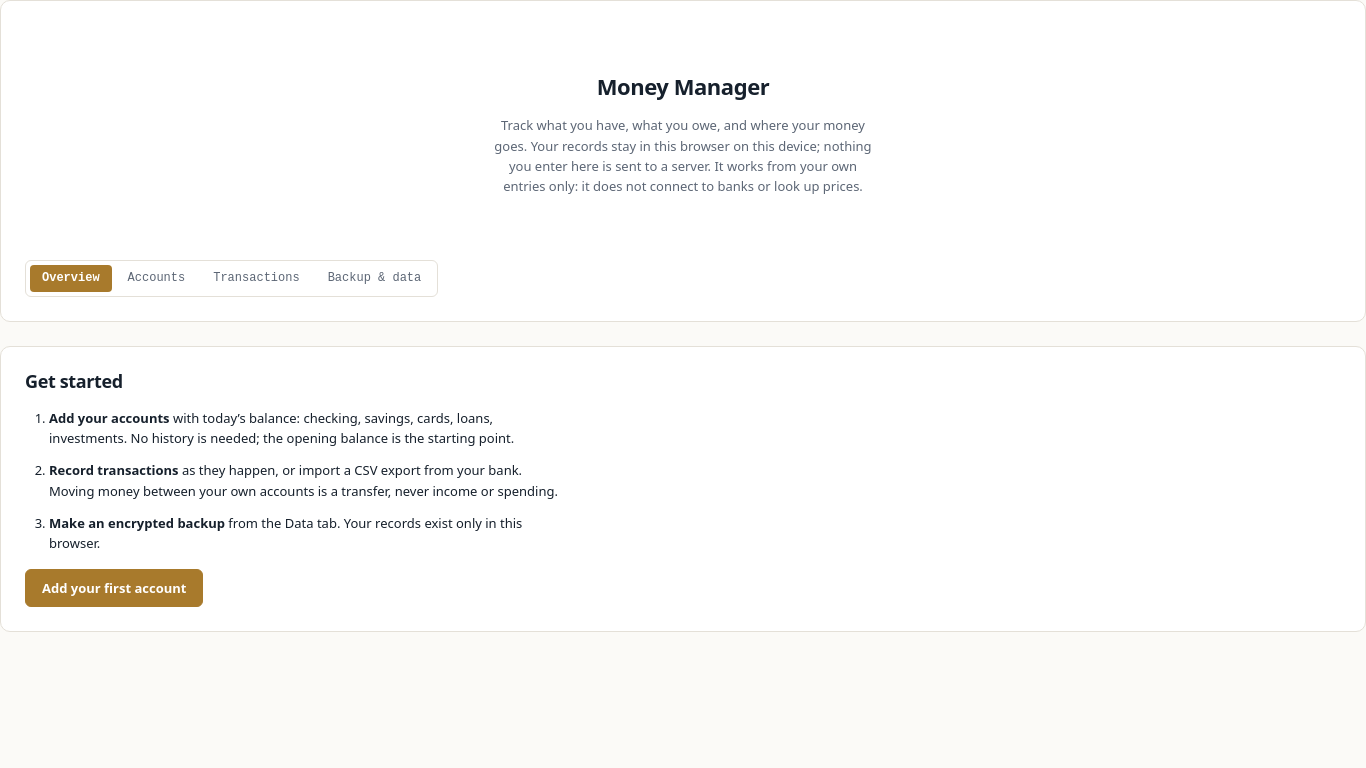
Test: Money Manager › refuses invalid input with specific messages
The image size is (1366, 768).
Click the button "Accounts" at (156, 278), box [116, 265, 197, 292]
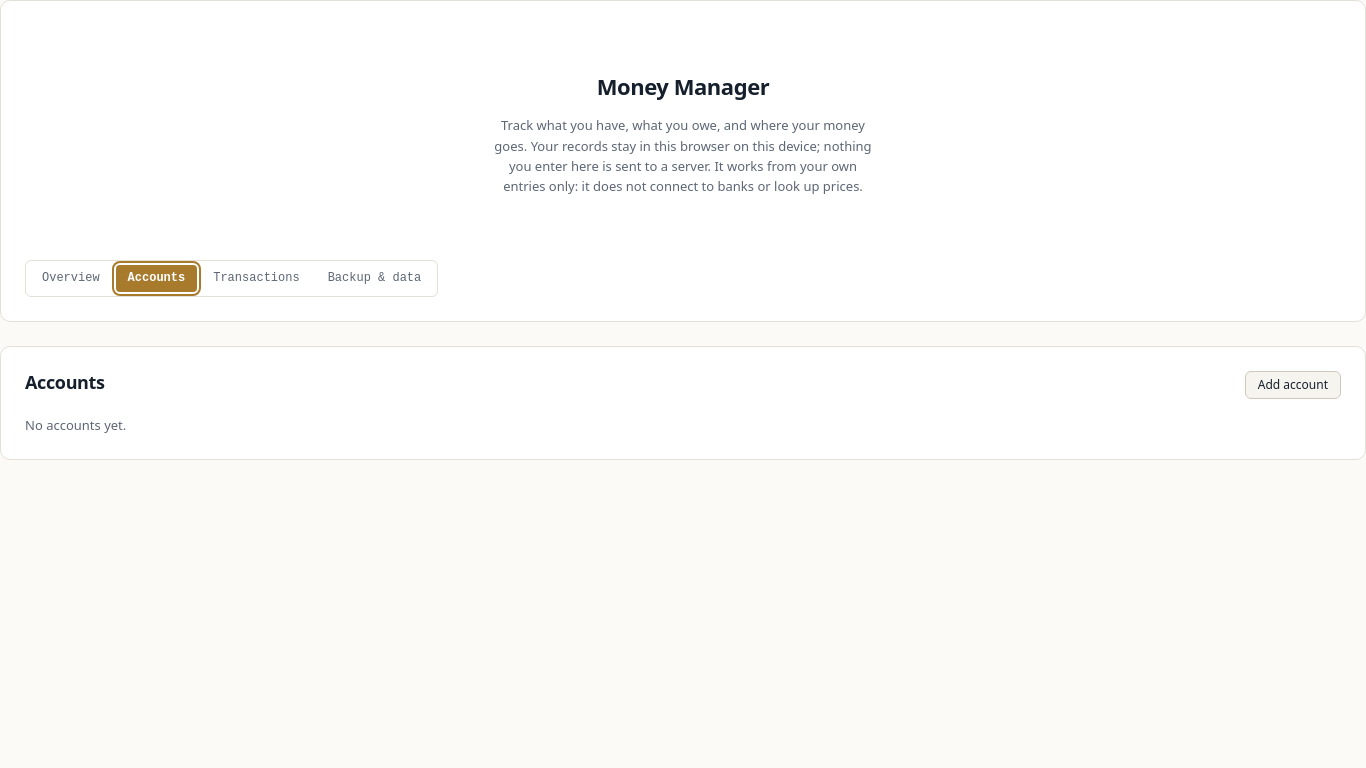
Click the button "Add account" at (1293, 385), box [1245, 370, 1341, 399]
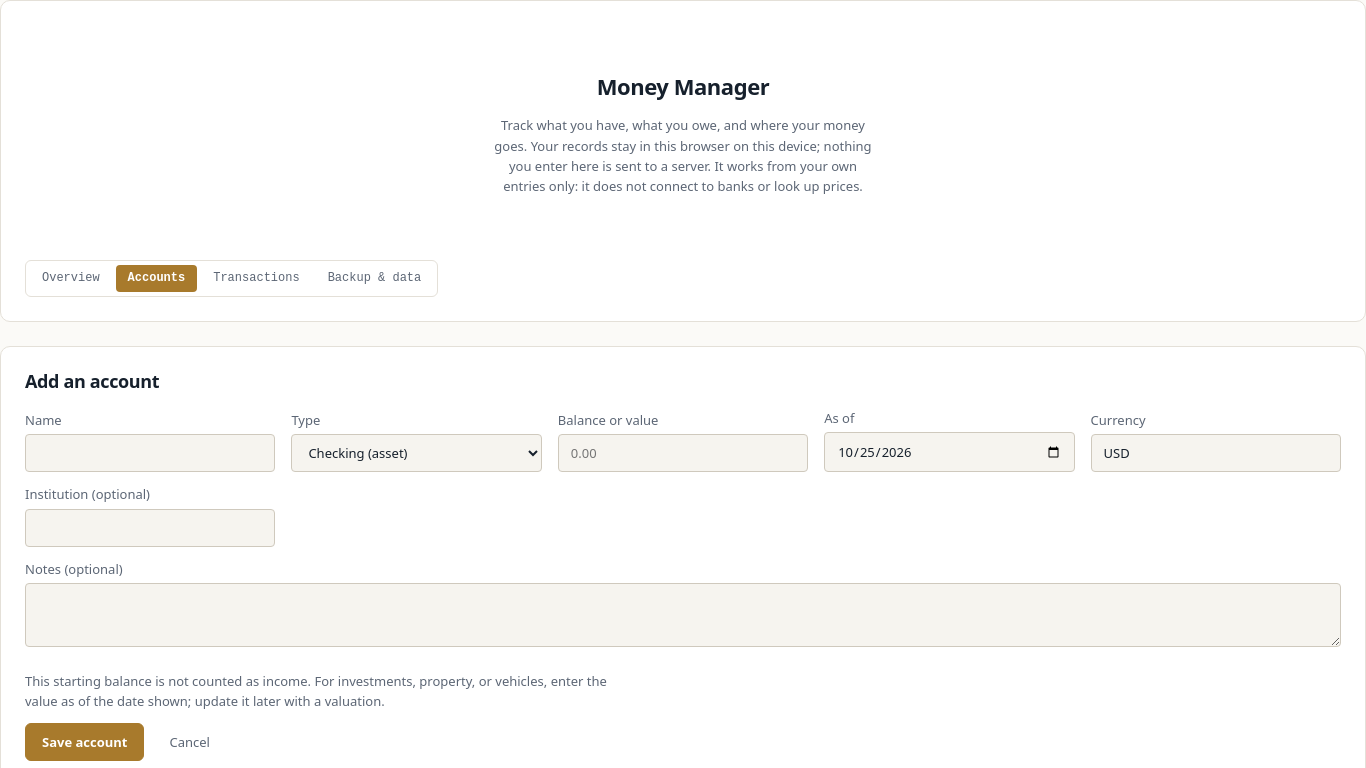
Type "12abc" into the field labelled "Balance or value" at (683, 453), box [558, 434, 808, 472]
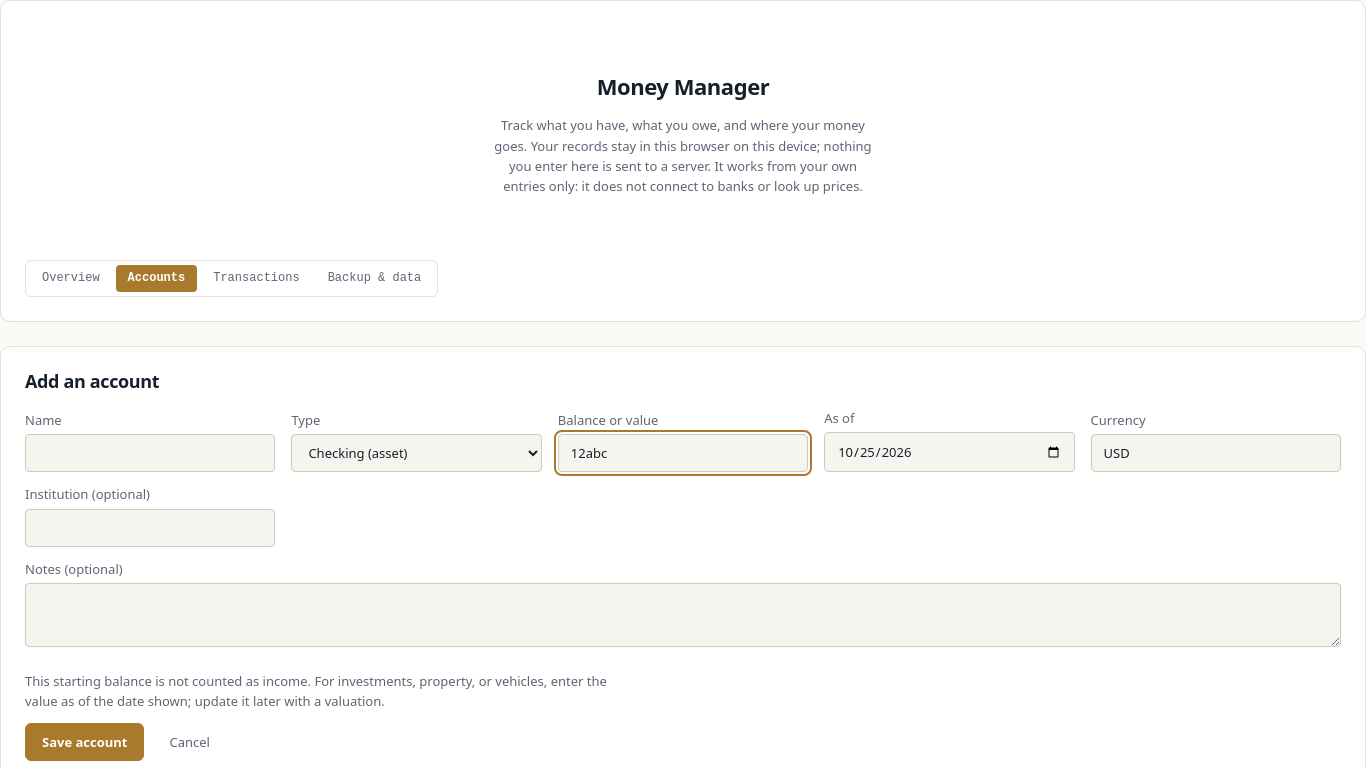
Click the button "Save account" at (85, 742), box [25, 723, 144, 761]
(page scrolled)
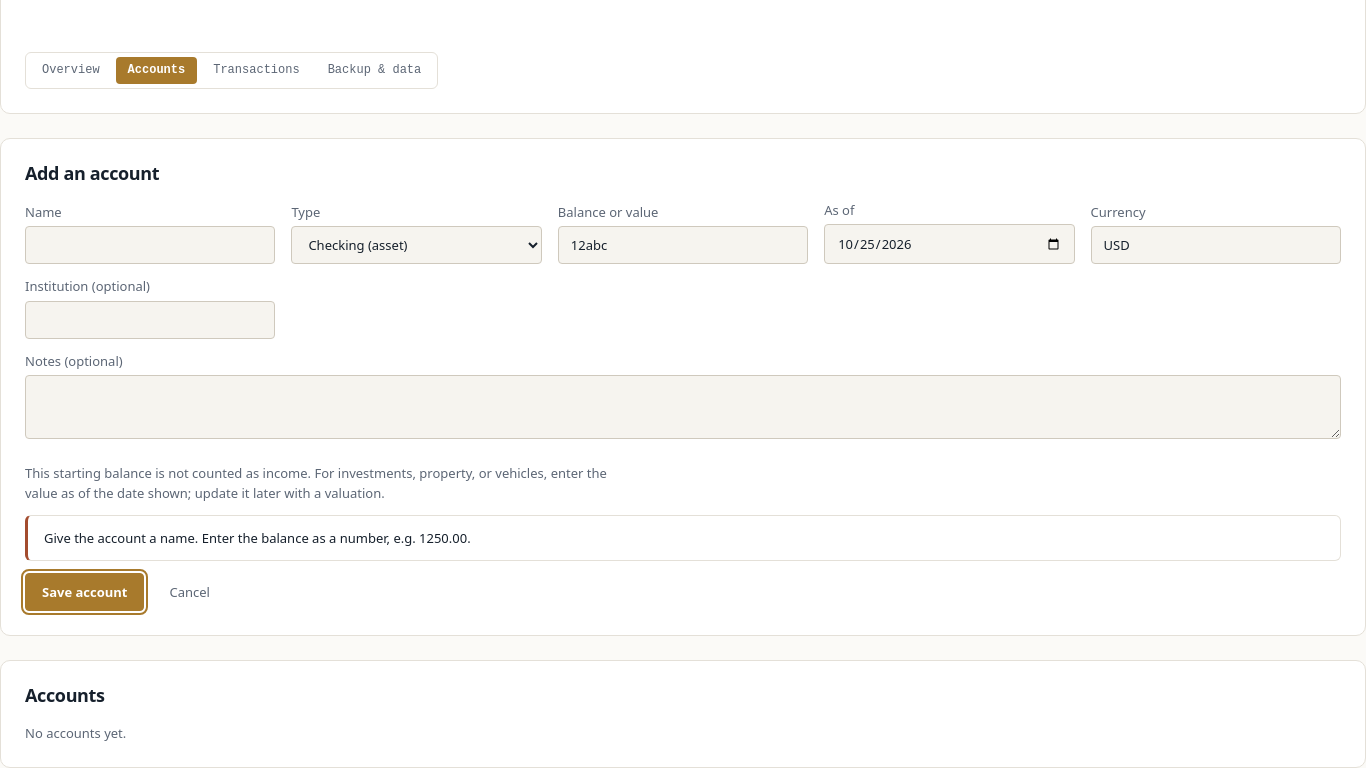
Now the message shows "Give the account a name.", box [44, 529, 471, 547]
Now the message shows "Enter the balance as a number", box [44, 529, 471, 547]
